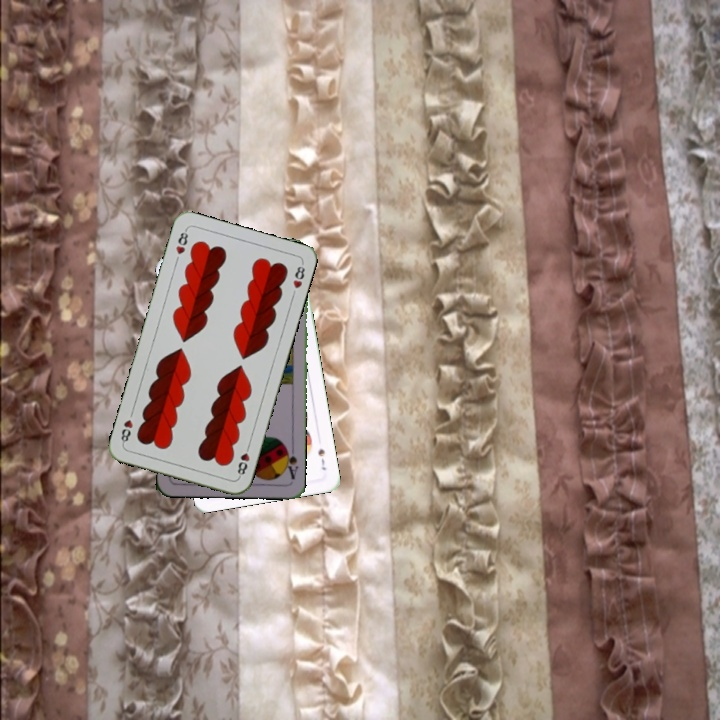H8: (233, 440, 252, 480), (172, 225, 191, 257)
S7: (314, 444, 329, 473)
SA: (281, 442, 300, 482)
